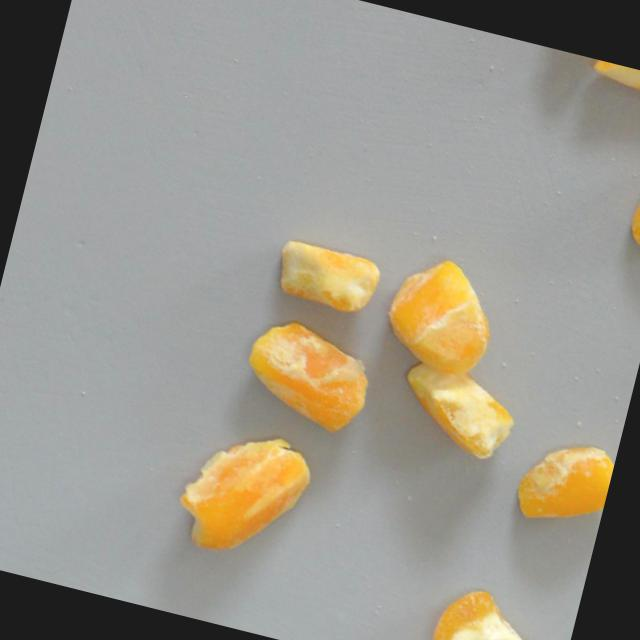pelicula: (168, 417, 318, 570), (234, 312, 381, 441), (375, 249, 507, 383), (505, 430, 617, 538), (265, 236, 384, 318), (430, 582, 553, 640)
punto_negro: (588, 58, 640, 92)
